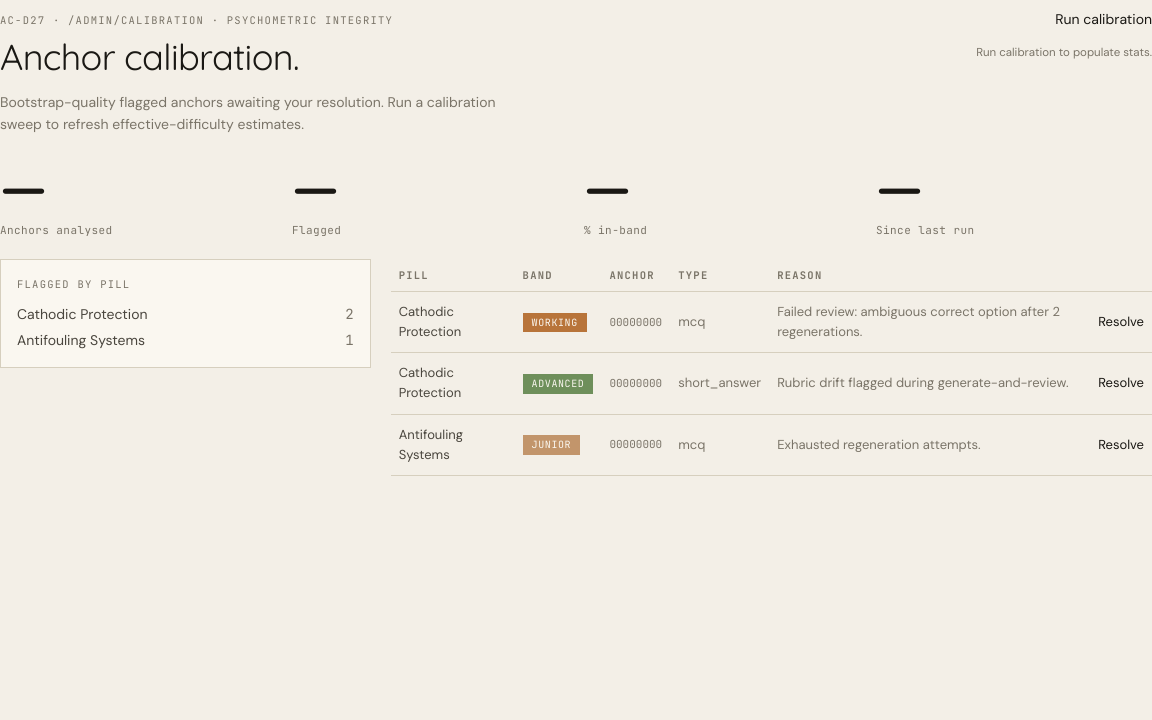
it: calibration — resolve › override with invalid JSON is blocked with no network
Check: the table with test id "calibration-table" is shown, box x1=391 y1=259 x2=1151 y2=476
Click the button "Resolve" in the row of "Working" at [1121, 322], box x1=1098 y1=304 x2=1144 y2=340
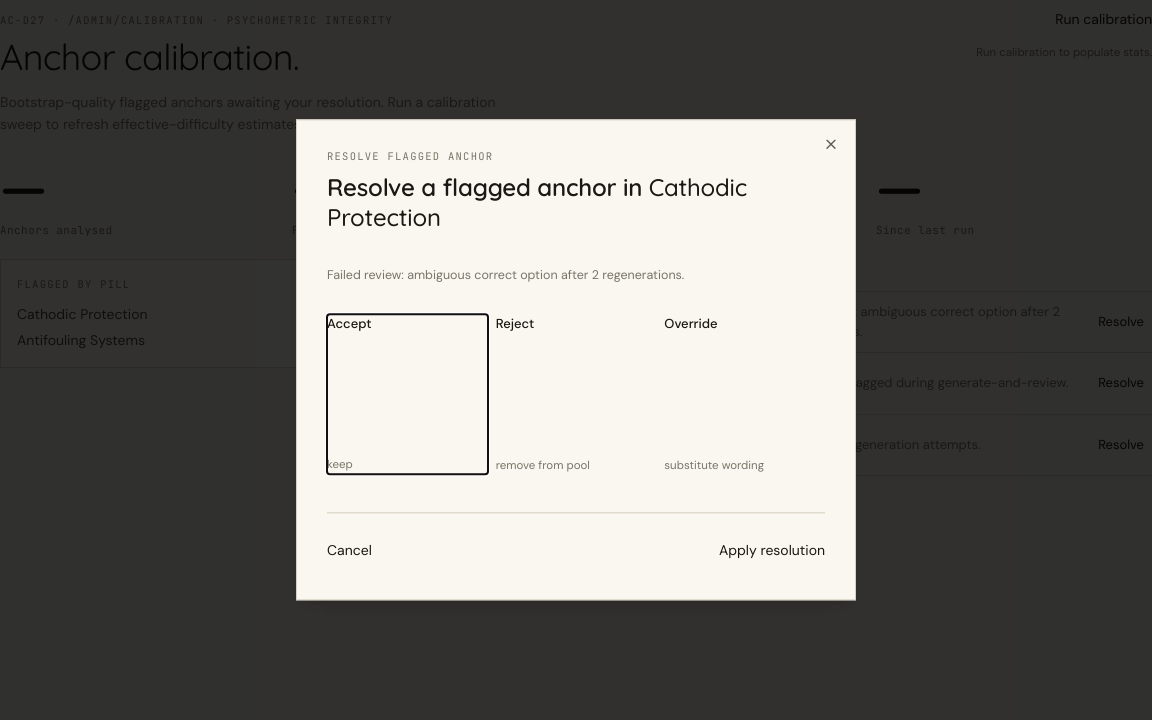
Click the radio button with test id "verdict-tile-override" at [745, 394], box x1=664 y1=314 x2=825 y2=475
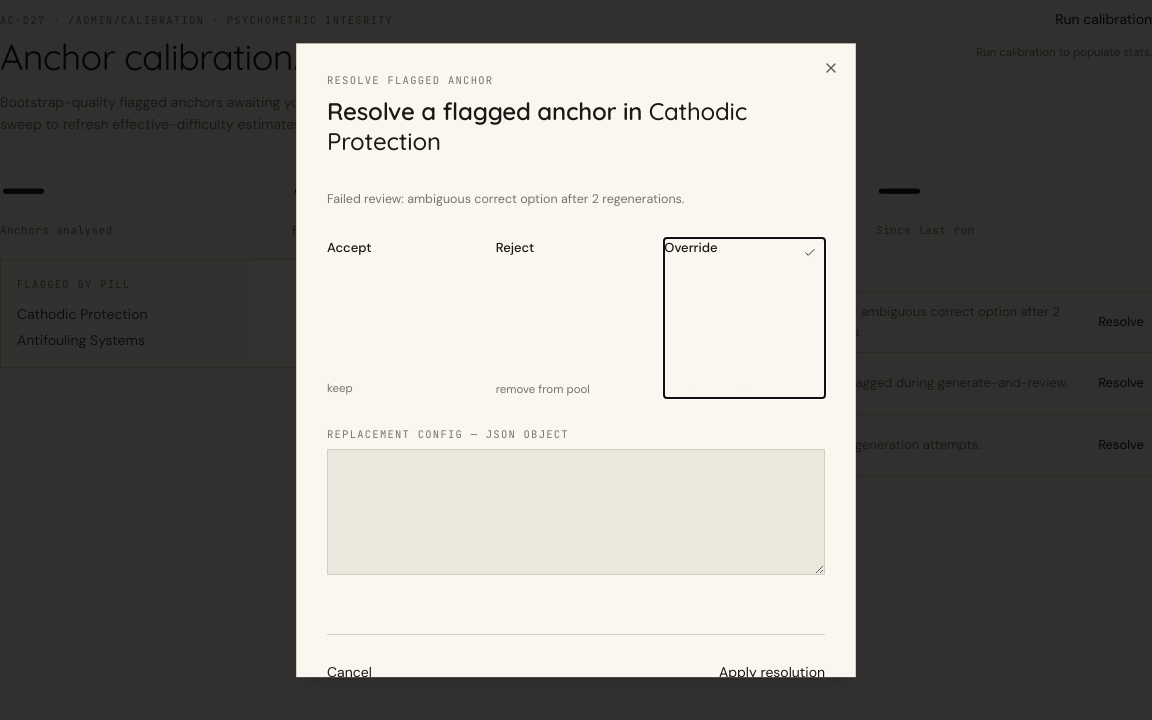
Type "not json" into the text box with test id "anchor-json-editor" at [576, 512], box x1=327 y1=449 x2=825 y2=575
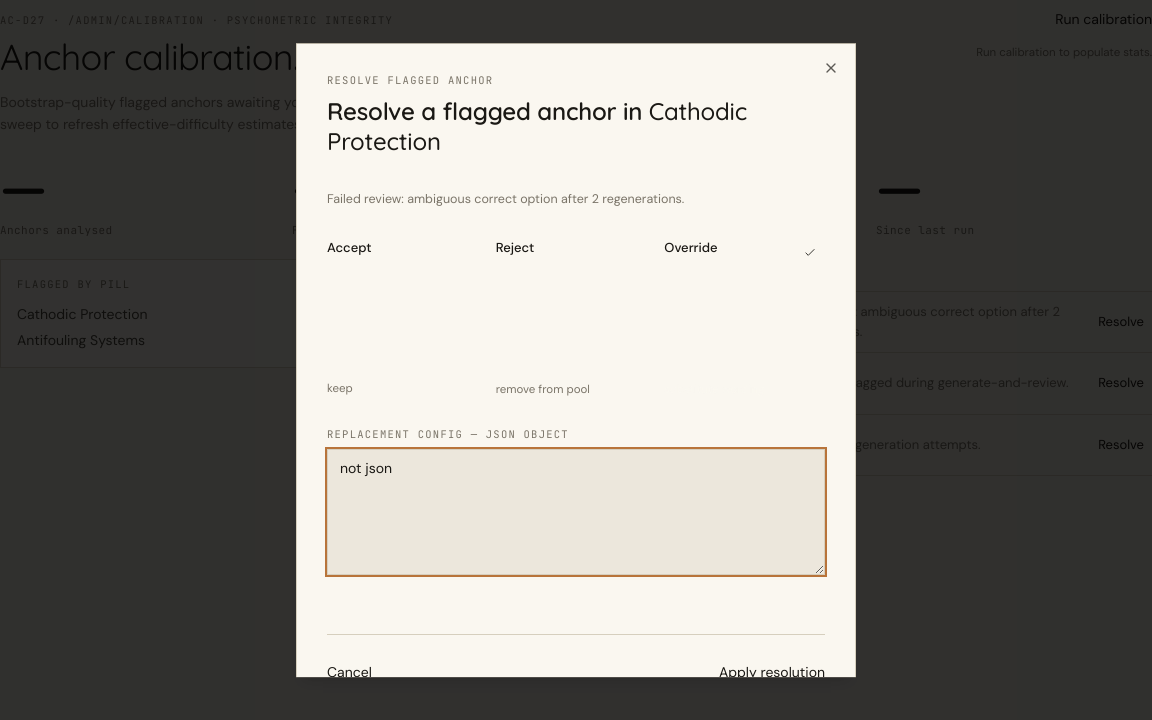
Click the button with test id "anchor-resolve-apply" at [772, 673], box x1=719 y1=653 x2=825 y2=693
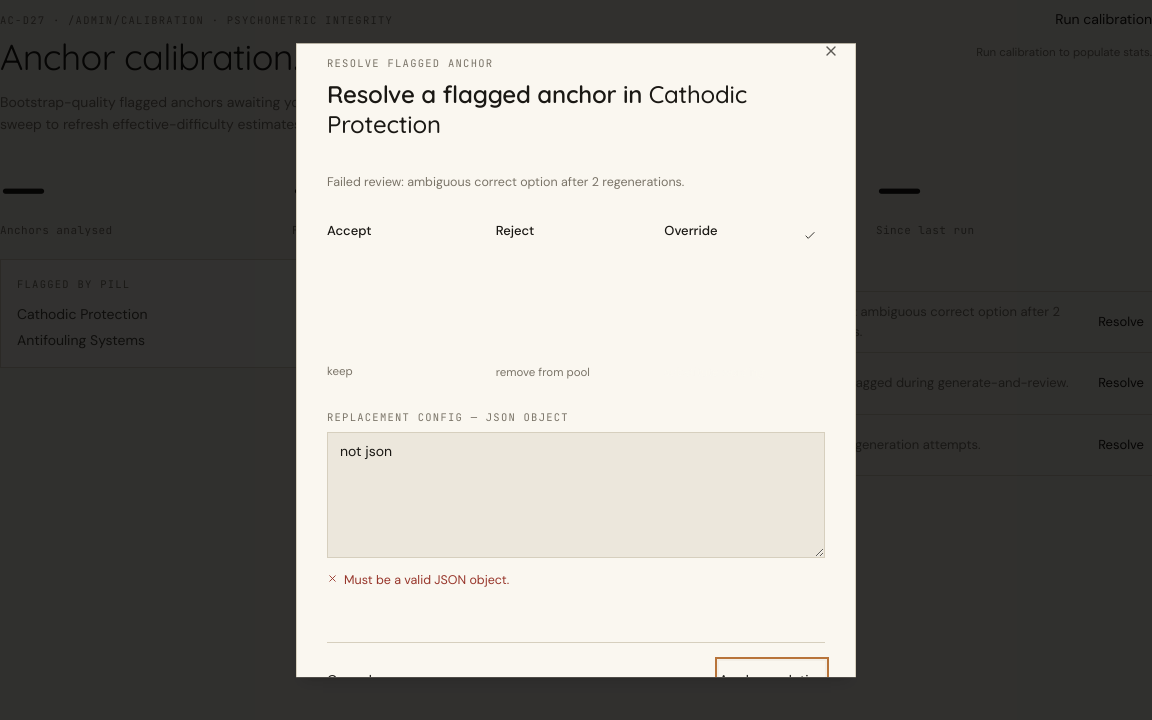
Check: the text "Must be a valid JSON object." is shown, box x1=344 y1=571 x2=509 y2=590
